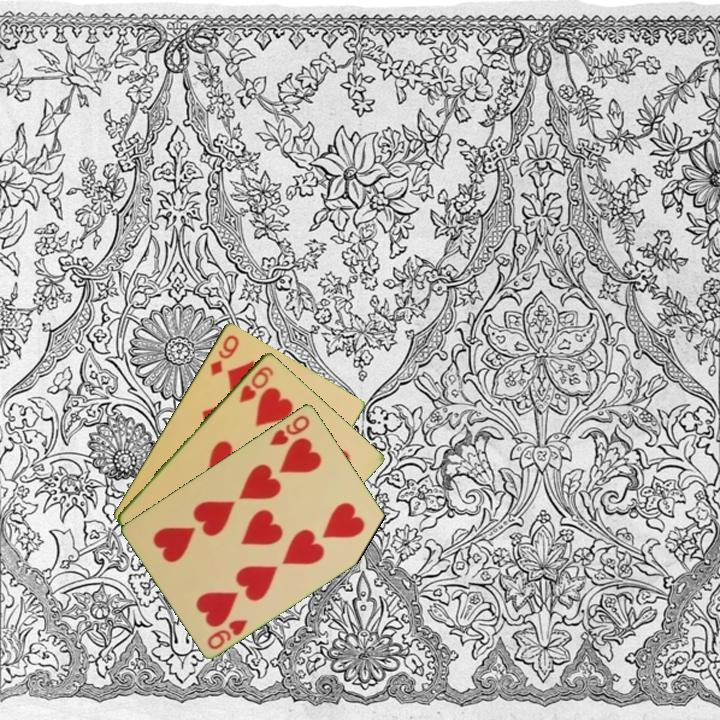6h: (235, 362, 276, 405)
9d: (206, 331, 242, 379)
9h: (266, 411, 313, 448), (204, 615, 251, 652)
